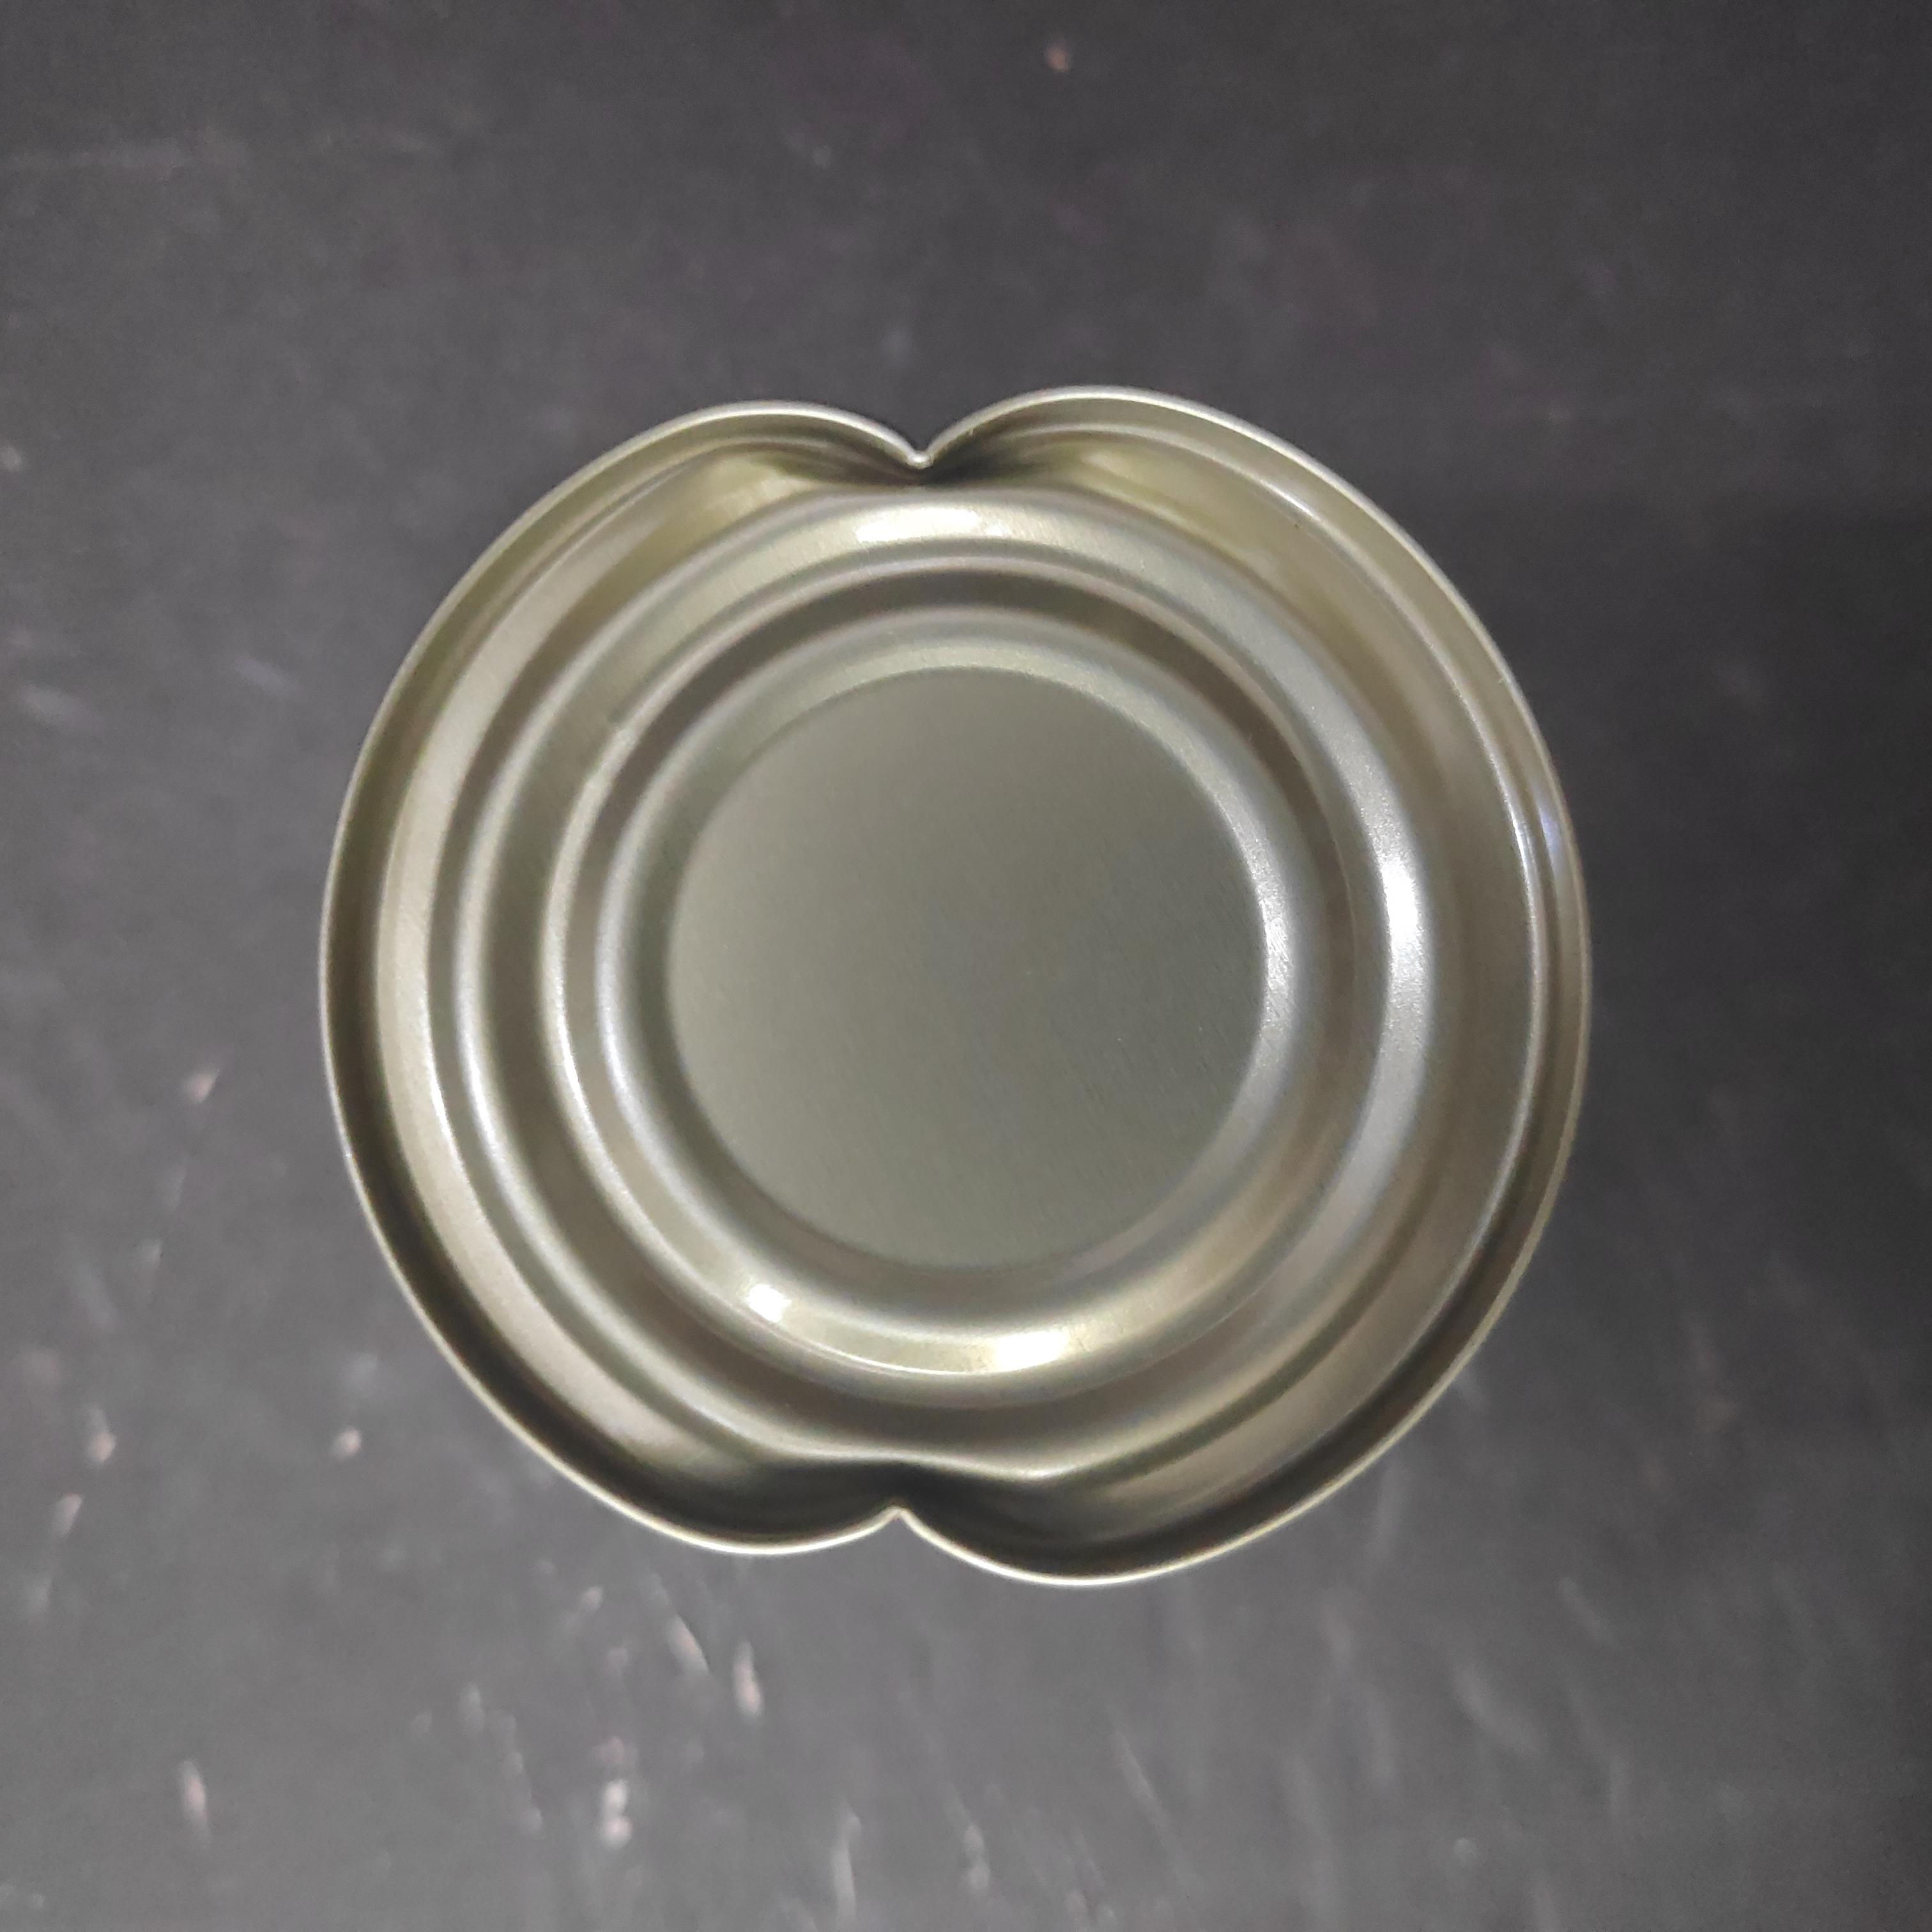Critical Defect: (333, 307, 1555, 1610)
